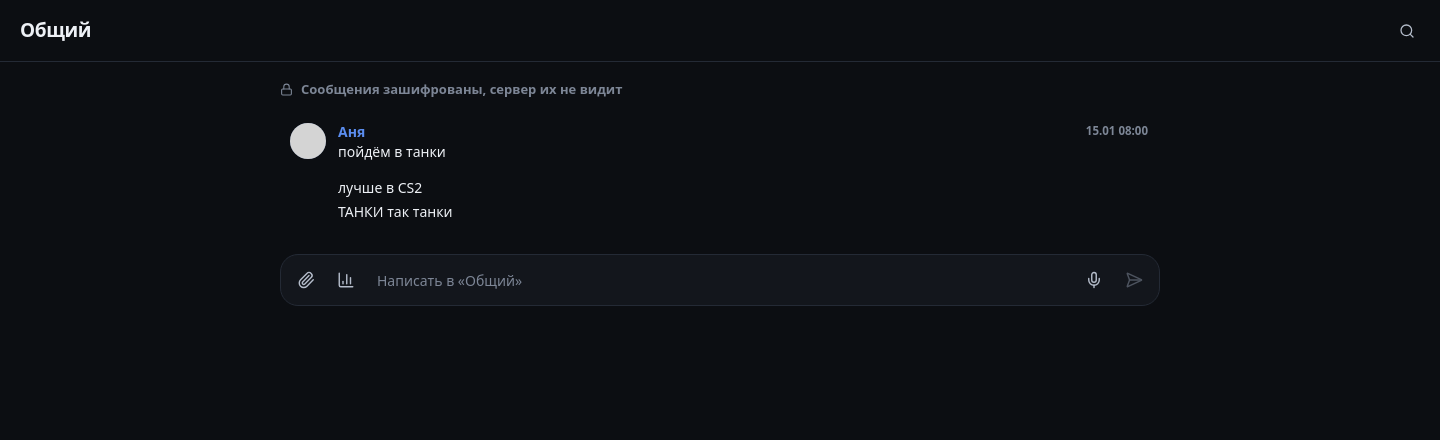
Scenario: search › Ctrl+F opens it, a result scrolls to its message, Esc closes it
Later steps or results of the test are not shown.
Press f in the element named "Чат «Общий»"
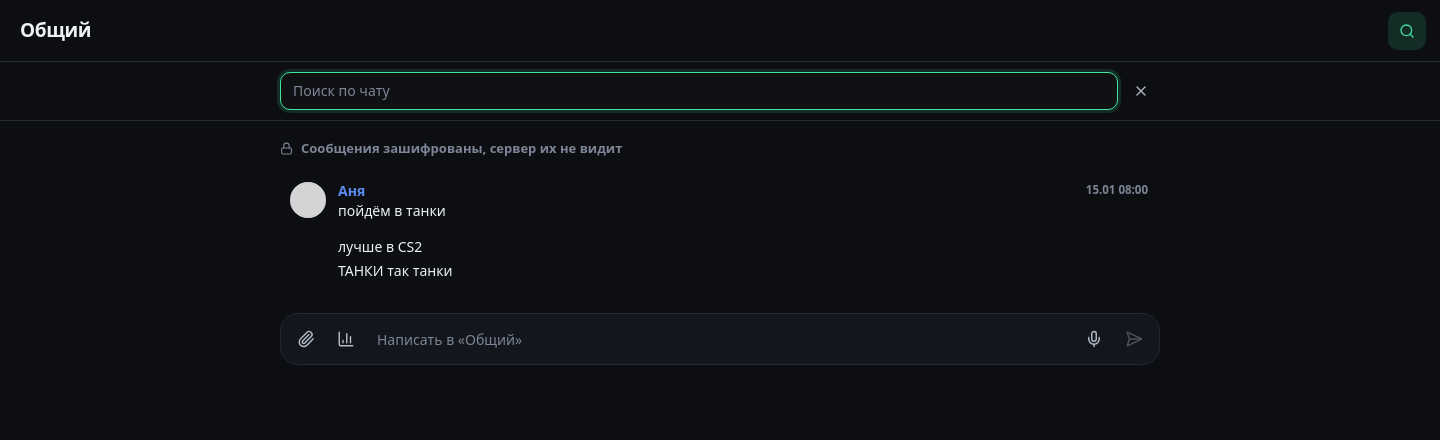
Type "танки" into the search field labelled "Поиск по чату". click: x=699, y=91
box: [280,72,1118,110]
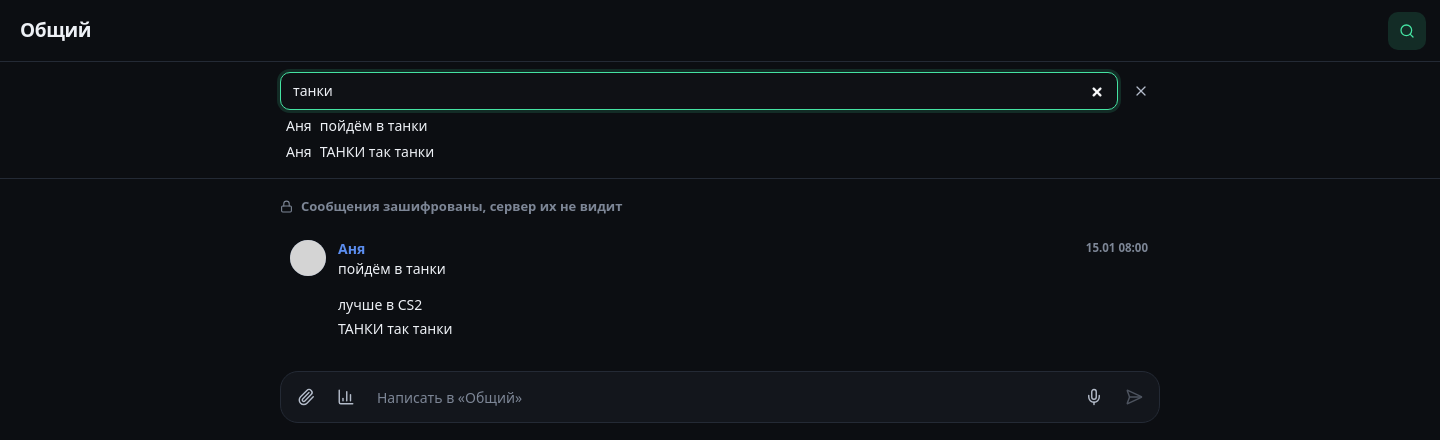
Click the button "Аня ТАНКИ так танки". click: x=377, y=152
box: [280,142,1160,168]
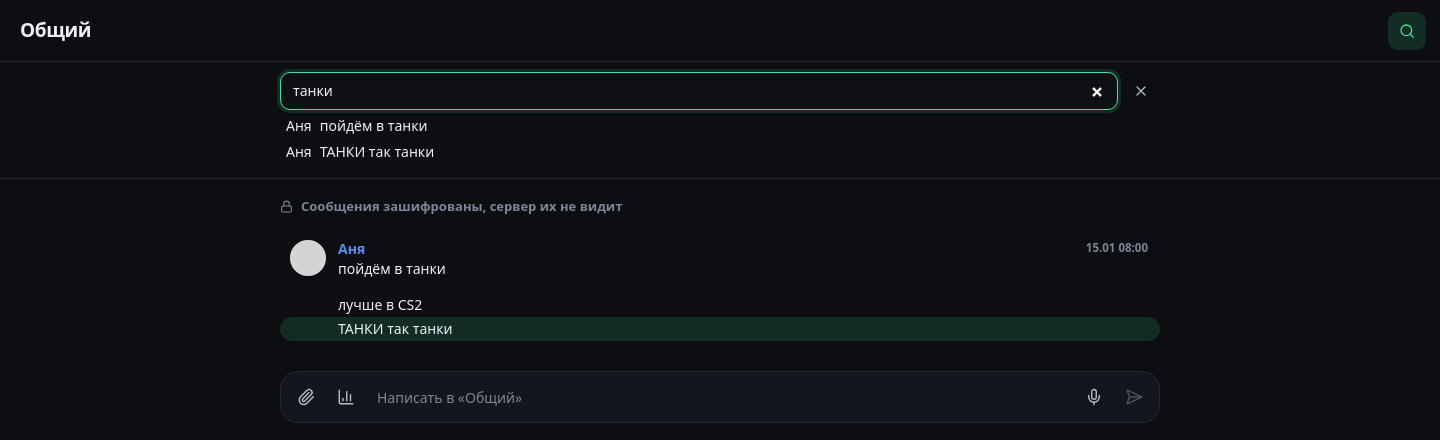
expect the list item "ТАНКИ так танки" has class "found": met, box [280,317,1160,341]
